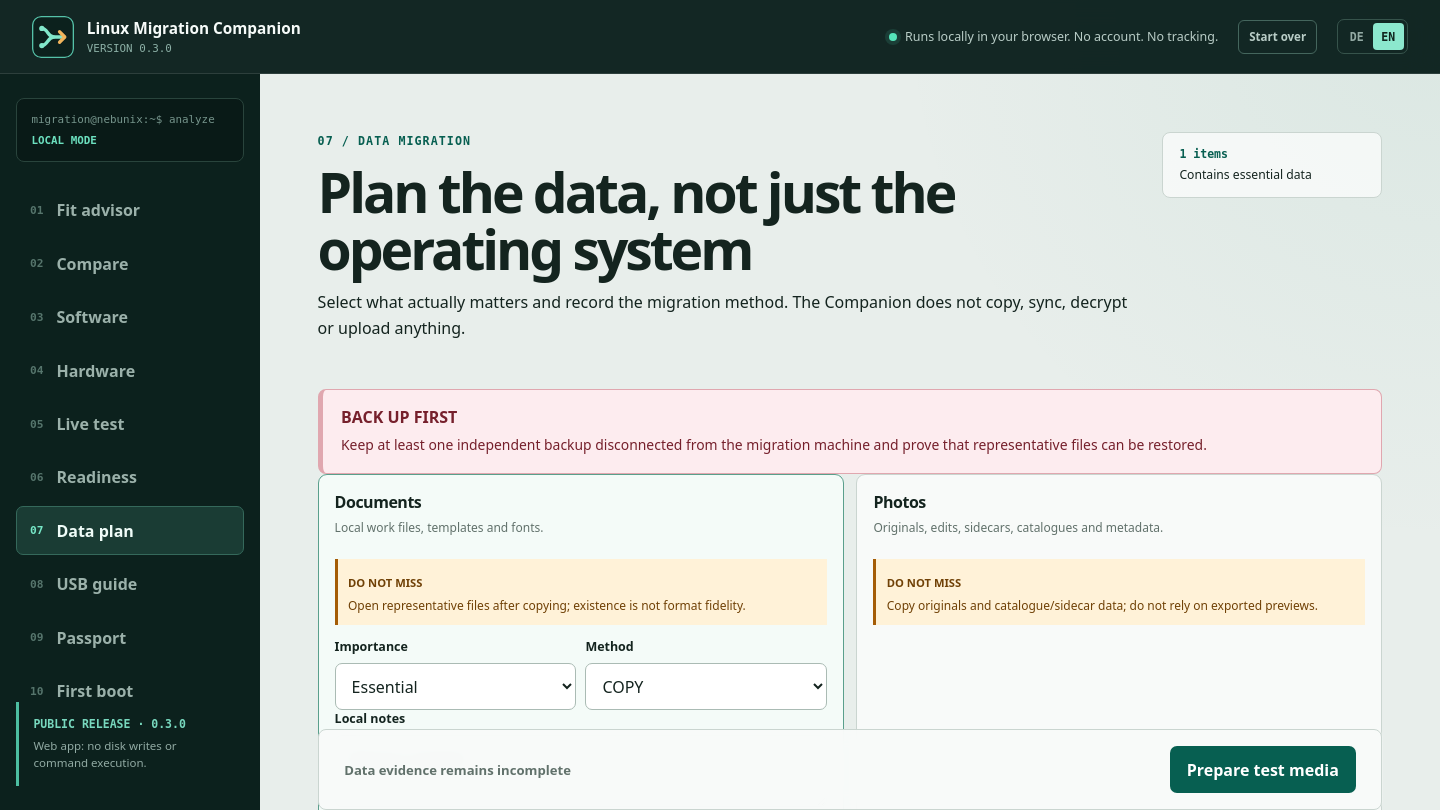
Test: public release application flow › opens reset confirmation without changing progress on the first click
What coordinates should you click on to do the following:
click the button "Start over"
I would click on:
 (1278, 36)
Its box is [1238,20,1317,54].
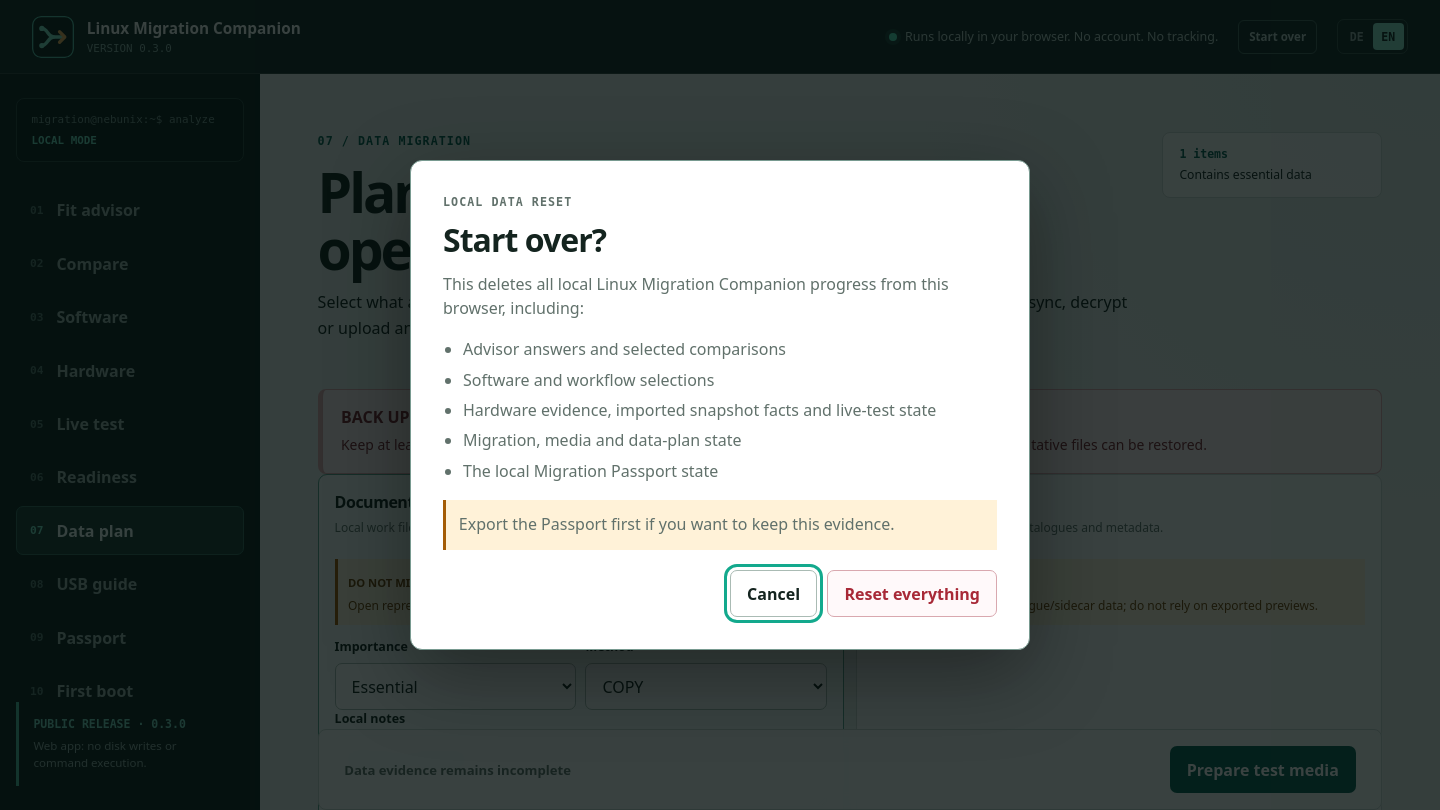
Now the dialog "Start over?" is shown, box [410,160,1030,650]
